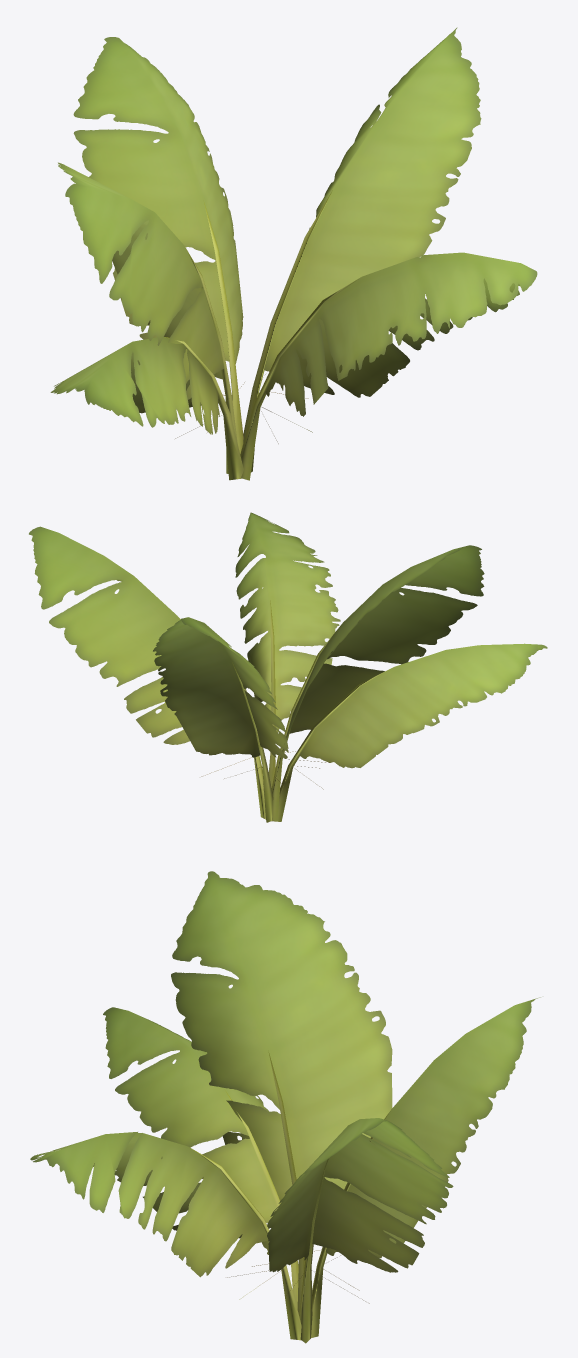
Rendered from banana plant 02_lod2.obj.
3 renders of one model, top to bottom at view 1: azimuth 30°, elevation 25°; view 2: azimuth 150°, elevation 25°; view 3: azimuth 270°, elevation 25°, orthographic. The views are drawn at different scales.
Visible parts, largest first — view 1: tree; view 2: tree; view 3: tree.
Boxes of the visible parts, left/top/right/bottom form: tree: left=50, top=27, right=537, bottom=480; tree: left=29, top=512, right=547, bottom=822; tree: left=30, top=871, right=540, bottom=1343.
Size of the model in its own units: 239 by 156 by 207.
